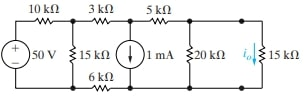current: (114, 37, 145, 71)
dc: (1, 39, 32, 72)
resistor: (144, 15, 175, 28), (88, 82, 114, 97), (182, 43, 196, 69), (32, 15, 57, 28), (256, 44, 268, 68), (67, 43, 78, 68), (89, 16, 112, 27)
